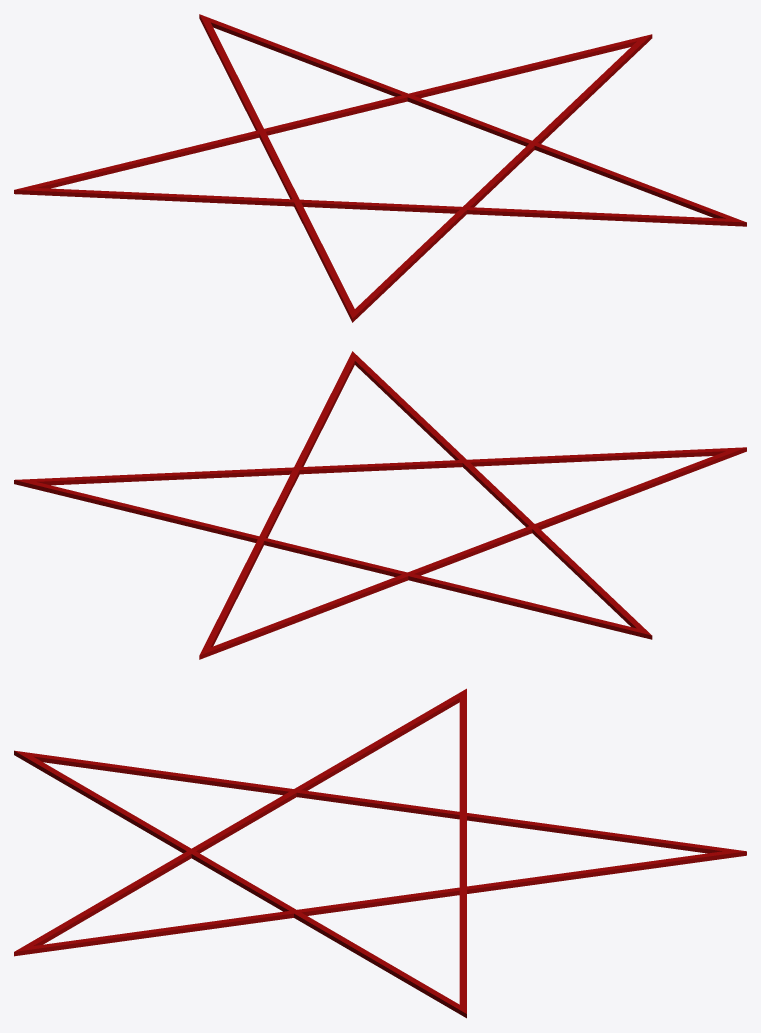
The model's file is pentagram.glb.
3 views of the same model, one above another, from view 1: azimuth 30°, elevation 25°; view 2: azimuth 150°, elevation 25°; view 3: azimuth 270°, elevation 25° (orthographic). The views are drawn at different scales.
Visible parts, largest first — view 1: pentagram; view 2: pentagram; view 3: pentagram.
Boxes of the visible parts, x1,y1,x2,y2 form: pentagram: [14, 14, 746, 322]; pentagram: [14, 351, 746, 659]; pentagram: [14, 688, 746, 1018].
Size of the model in its own units: 190 by 1.2 by 181.
